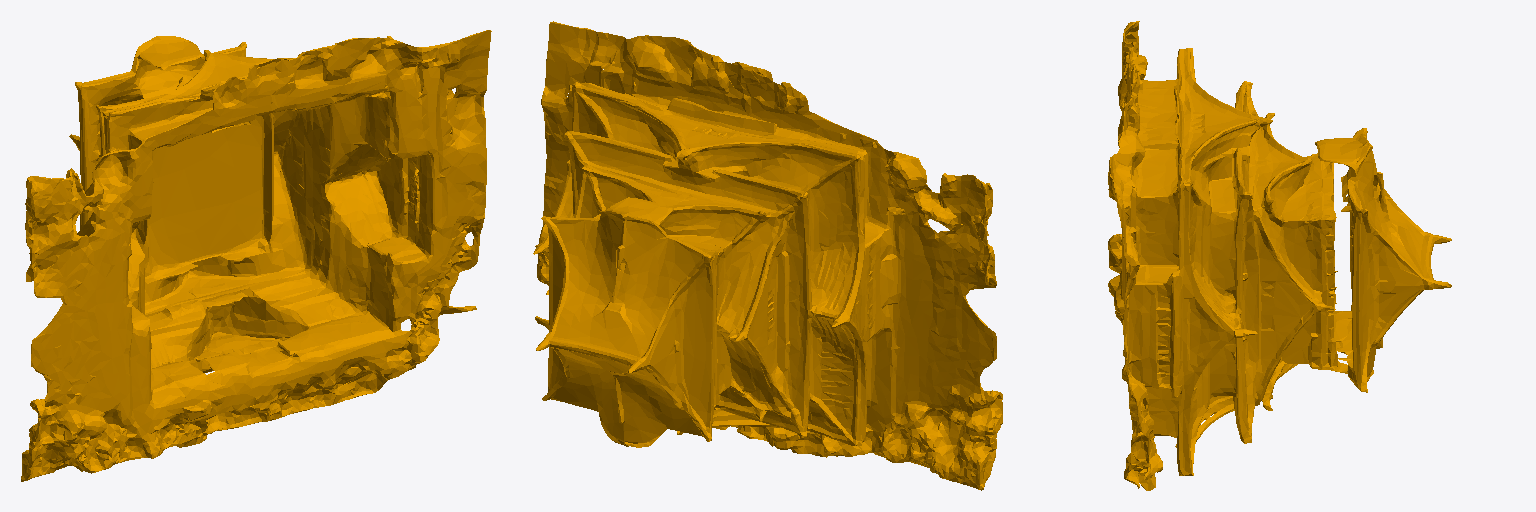
The robot description file, URDF, robot "snapshot_robot":
<robot name="snapshot_robot"><link name="body_0"><inertial><origin xyz="0 0 0" rpy="0 0 0" /><mass value="1" /><inertia ixx="1" ixy="0" ixz="0" iyy="1" iyz="0" izz="1" /></inertial><origin xyz="2.0 2.0 0.9063042308235693" rpy="0.0 -0.0 0.0" /><visual><origin xyz="2.0 2.0 0.9063042308235693" rpy="0 0 0" /><geometry><mesh filename="output_file.obj" /></geometry></visual><collision><origin xyz="2.0 2.0 0.9063042308235693" rpy="0 0 0" /><geometry><mesh filename="output_file.obj" /></geometry></collision></link></robot>

--- Render facts (derived) ---
Views: 3 orthographic renders of the robot side by side, from view 1: azimuth 30°, elevation 25°; view 2: azimuth 150°, elevation 25°; view 3: azimuth 270°, elevation 25°.
Robot: snapshot_robot — 1 links, 0 joints (none); root link body_0; default pose: all joints at 0.
Visible links, largest first — view 1: body_0; view 2: body_0; view 3: body_0.
Link boxes in pixels (x1,y1,x2,y2): body_0: (21, 30, 491, 481); body_0: (533, 21, 1002, 490); body_0: (1108, 21, 1451, 490).
Bounding box of the posed robot: 1 × 0.6621 × 0.7926 m (x, y, z).
1 mesh visuals loaded from 1 distinct referenced files (1 OBJ).